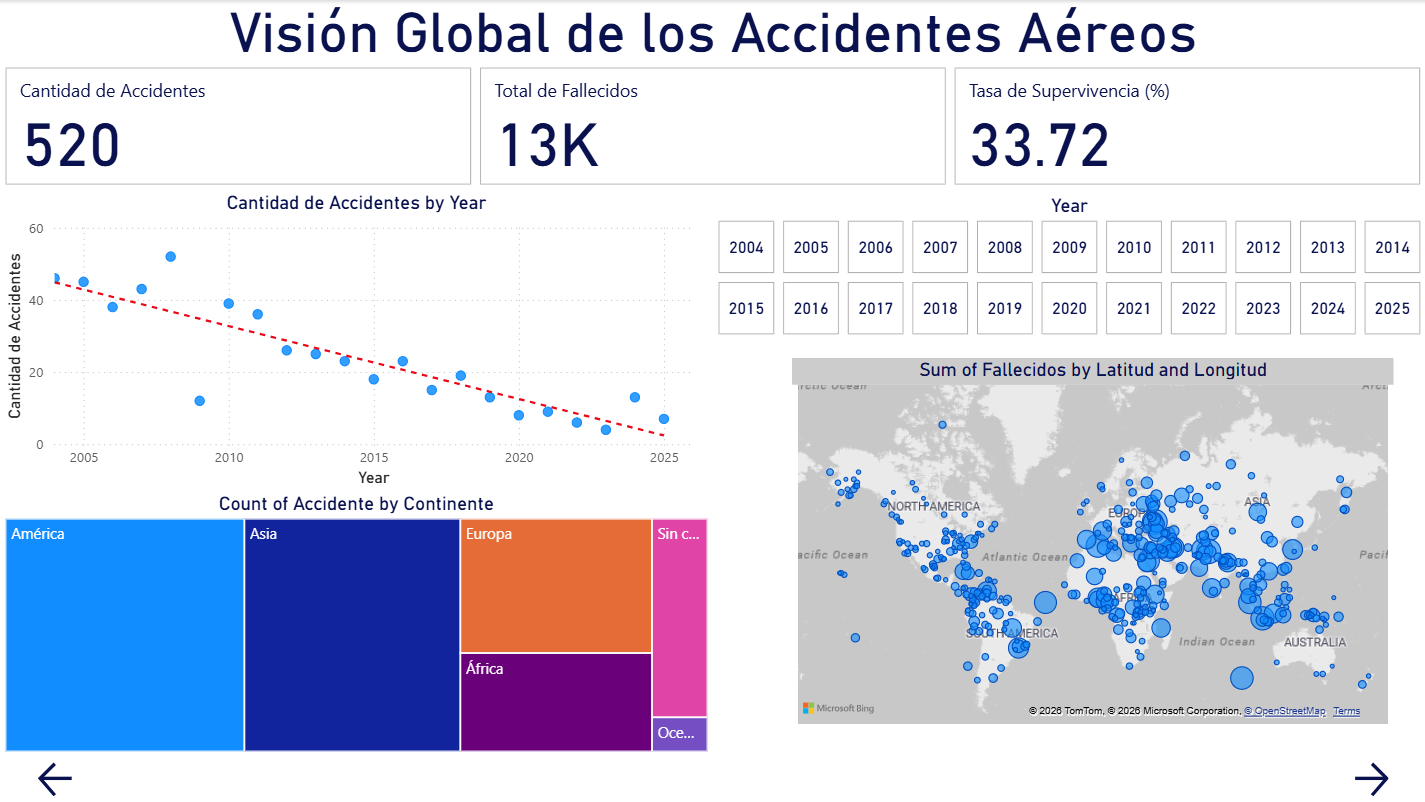

The page's visual inventory and layout, read from the dashboard file:
{"tool":"powerbi","page":{"name":"Análisis General de Accidentes","canvas":[1280,720],"ordinal":2},"visuals":[{"type":"actionButton","box":[1180.5,679.6,99.7,40.4],"z":0},{"type":"actionButton","box":[0,679.6,99.7,40.4],"z":1000},{"type":"textbox","title":"Visión Global de los Accidentes Aéreos","box":[0,0,1280.2,55.7],"z":2000},{"type":"map","fields":{"Y":["Tabla_Accidente.Latitud"],"X":["Tabla_Accidente.Longitud"],"Size":["Sum(Tabla_Pasajeros.Fallecidos)"]},"box":[711,321.4,540.4,334],"z":3000},{"type":"cardVisual","fields":{"Data":["Medidas.Total de Accidentes","Medidas.Total de Fallecidos","Medidas.Tasa de Supervivencia (%)"]},"box":[0,55.7,1280.2,115.8],"z":4000},{"type":"scatterChart","fields":{"X":["Calendario.Date.Variation.Date Hierarchy.Year"],"Y":["Medidas.Total de Accidentes"]},"box":[0,171.5,640.1,270.2],"z":5000},{"type":"advancedSlicerVisual","fields":{"Values":["Calendario.Date.Variation.Date Hierarchy.Year"]},"box":[640.1,174.2,640.1,132.9],"z":6000},{"type":"treemap","fields":{"Group":["Tabla_Accidente.Continente"],"Values":["CountNonNull(Tabla_Accidente.Accidente)"]},"box":[0,441.7,640.1,237.9],"z":7000}]}

Visuals, with their boxes in screenshot pixels (x1, y1, x2, y2), scaled from the page's 1280x720 canvas onto the 1425x802 screenshot:
actionButton: box(1314, 757, 1424, 801)
actionButton: box(0, 757, 111, 801)
"Visión Global de los Accidentes Aéreos" textbox: box(0, 0, 1424, 62)
map - Tabla_Accidente.Latitud x Tabla_Accidente.Longitud: box(792, 358, 1393, 730)
cardVisual - Medidas.Total de Accidentes x Medidas.Total de Fallecidos: box(0, 62, 1424, 191)
scatterChart - Calendario.Date.Variation.Date Hierarchy.Year x Medidas.Total de Accidentes: box(0, 191, 713, 492)
advancedSlicerVisual - Calendario.Date.Variation.Date Hierarchy.Year: box(713, 194, 1424, 342)
treemap - Tabla_Accidente.Continente x CountNonNull(Tabla_Accidente.Accidente): box(0, 492, 713, 757)
